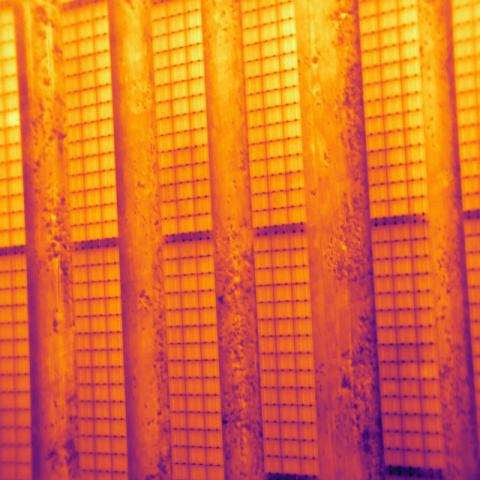fault: (419, 360, 439, 381), (5, 109, 20, 127)
